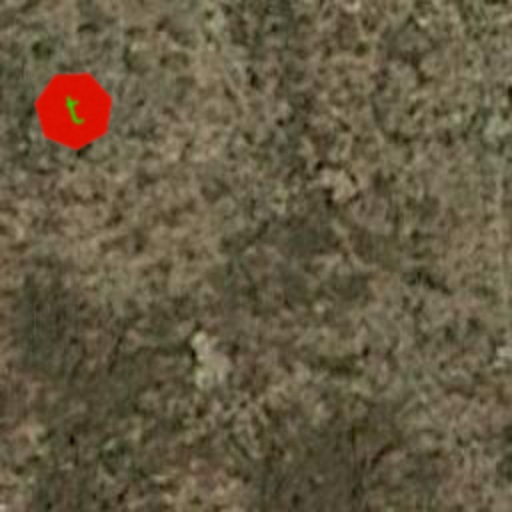heptagon: (24, 60, 124, 160)
